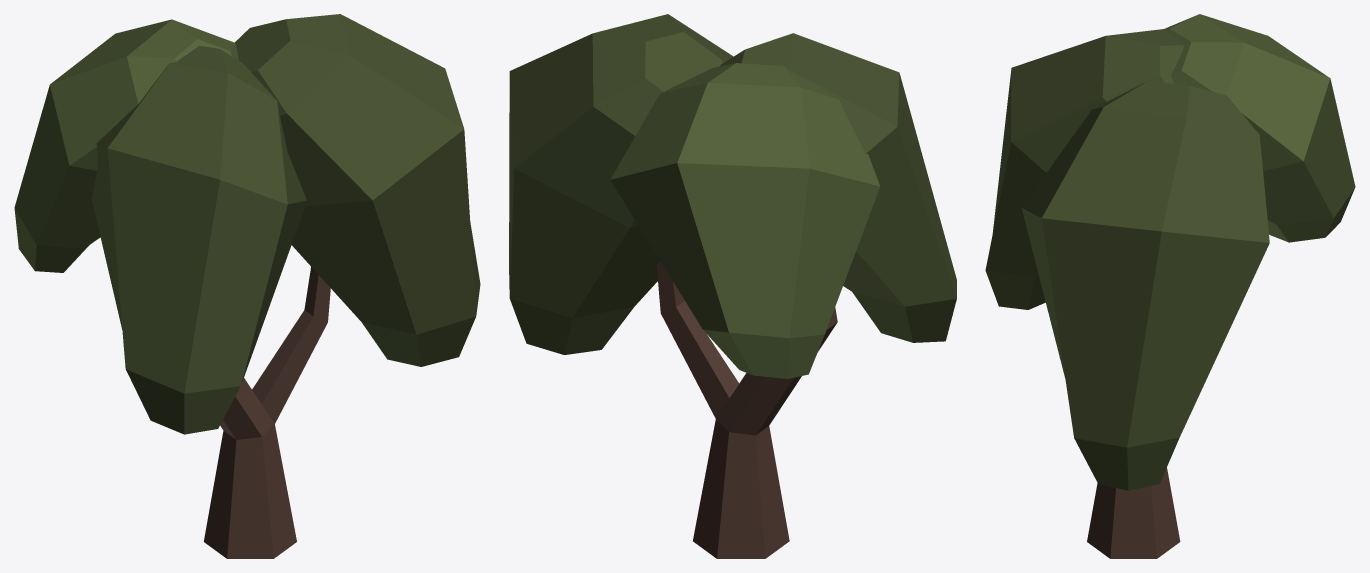
Rendered from Tree_Type6_01.glb.
3 views of the same model, side by side, from view 1: azimuth 30°, elevation 25°; view 2: azimuth 150°, elevation 25°; view 3: azimuth 270°, elevation 25° (orthographic). The views are drawn at different scales.
Parts seen in each view (by area): view 1: Tree Type6 01 Model; view 2: Tree Type6 01 Model; view 3: Tree Type6 01 Model.
Boxes of the visible parts, left/top/right/bottom form: Tree Type6 01 Model: left=14, top=14, right=480, bottom=558; Tree Type6 01 Model: left=509, top=14, right=956, bottom=558; Tree Type6 01 Model: left=985, top=14, right=1355, bottom=558.
Size of the model in its own units: 1.12 by 1.33 by 0.9164.
1 material, 1 textured.
